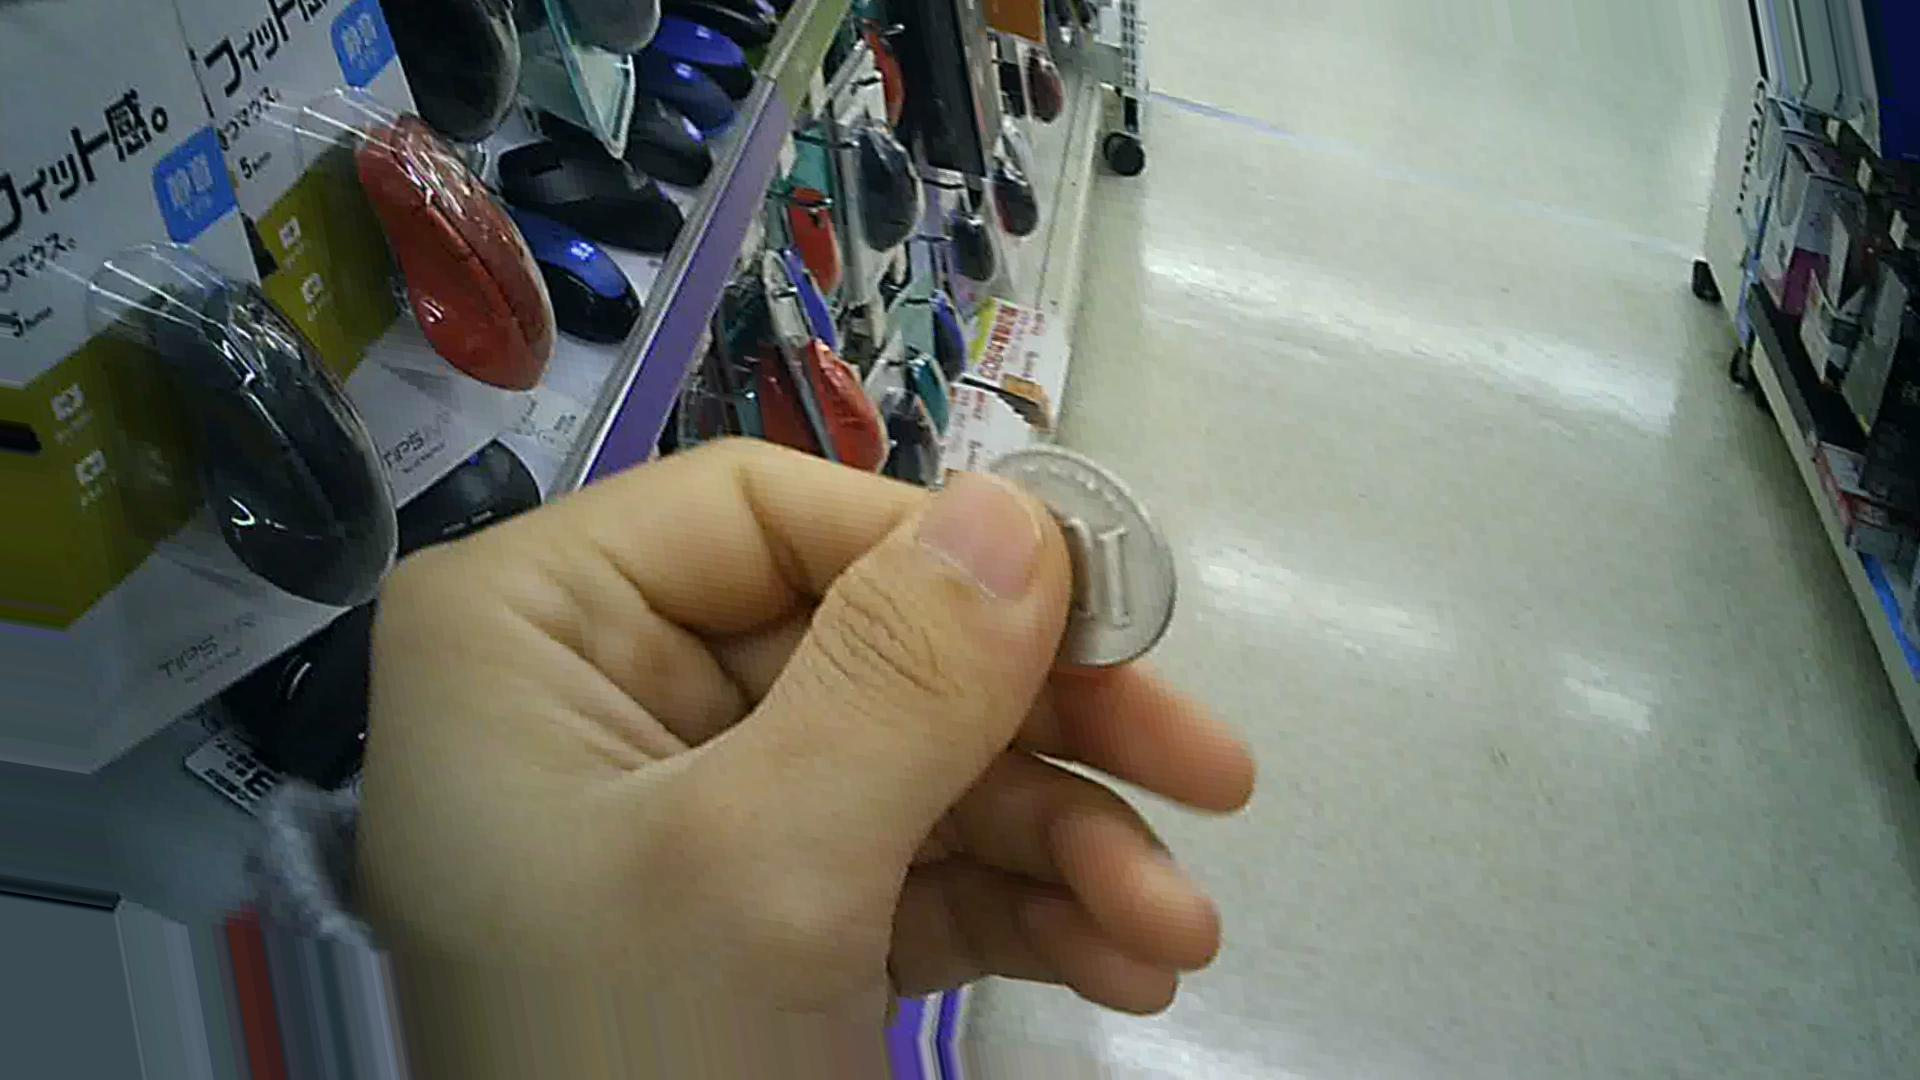100 Yen: (956, 430, 1189, 709)
